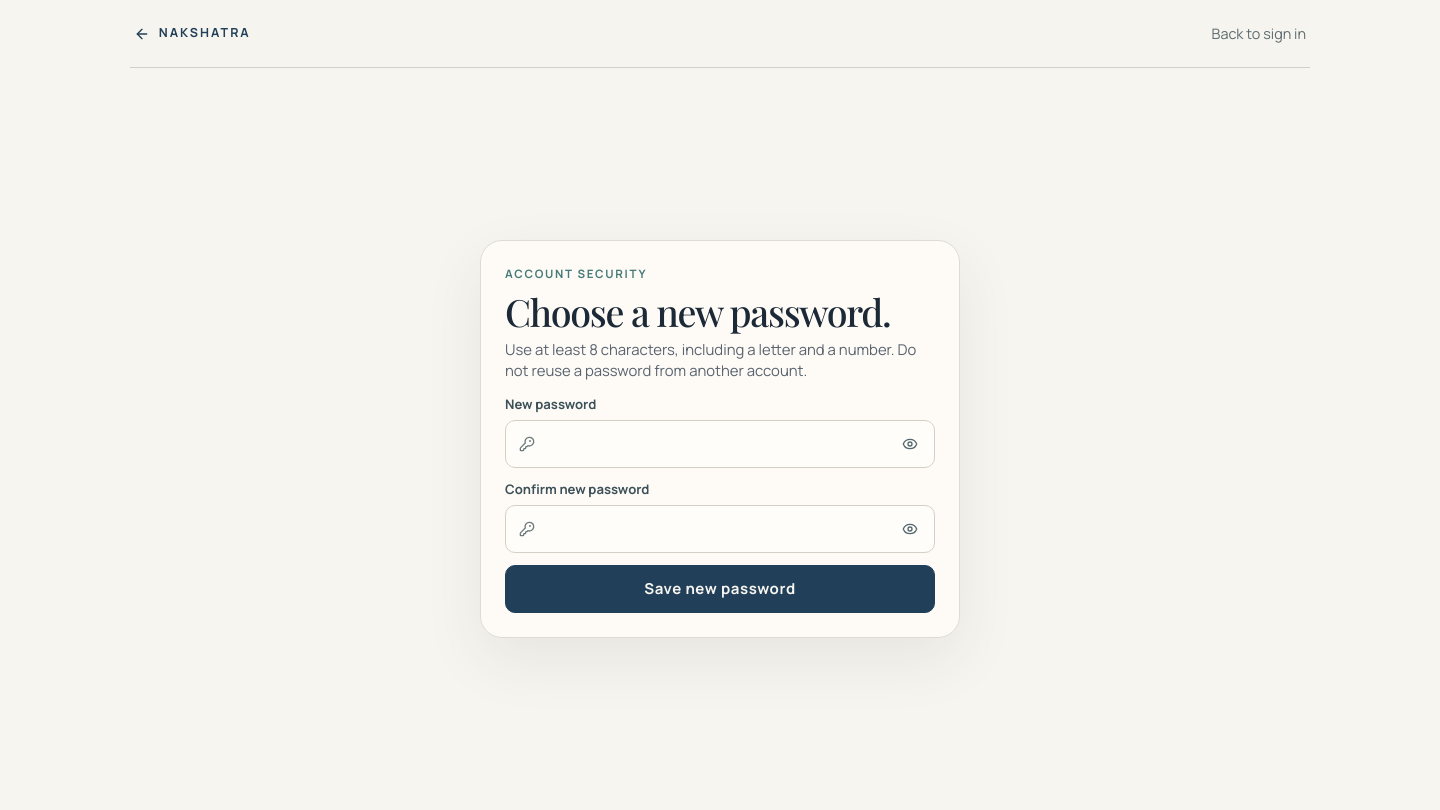
Scenario: password recovery form › shows a safe recovery error and supports password visibility
The width and height of the screenshot is (1440, 810).
Click the 1st button named "Show password" at (910, 444), box [889,423,931,465]
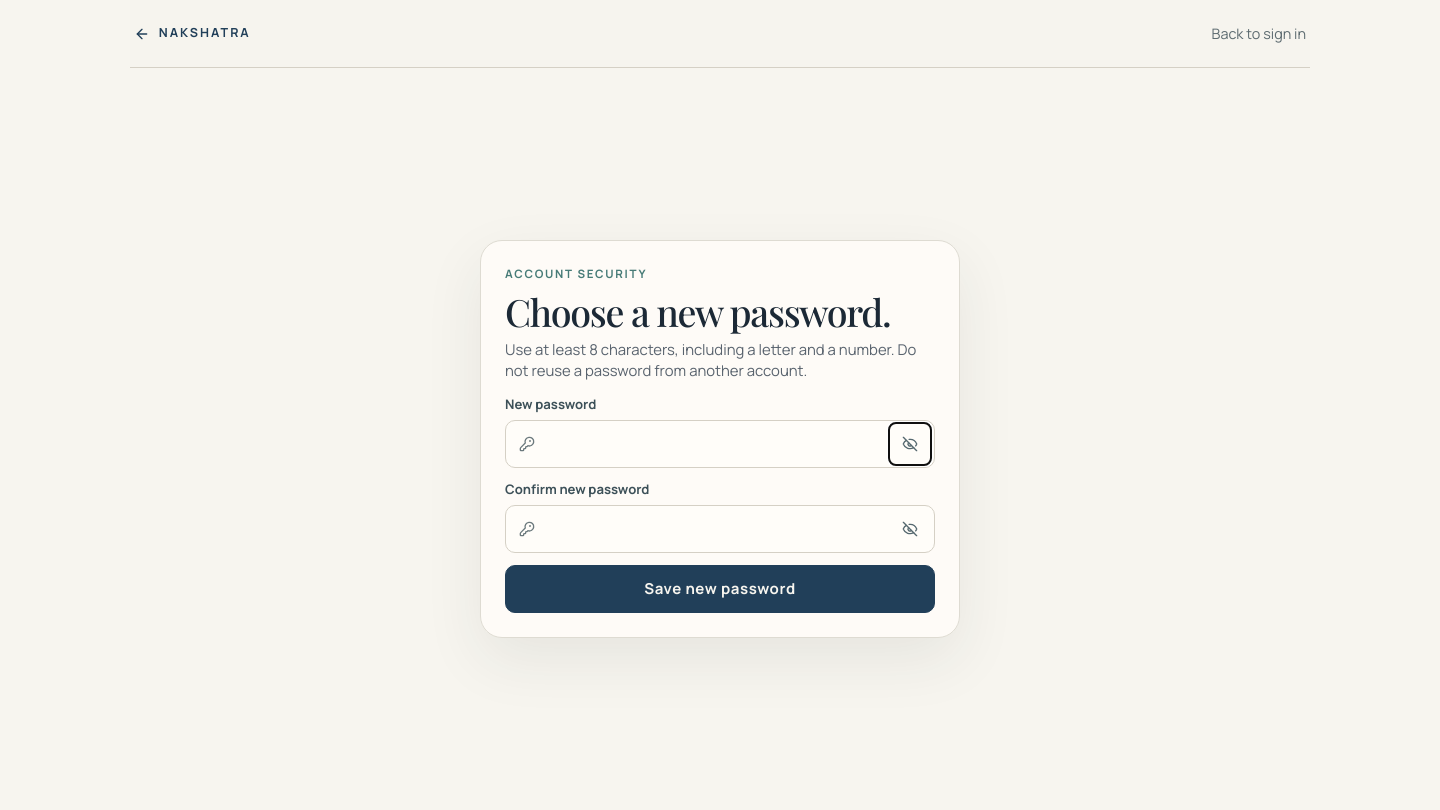
Type "NewPassword1" into the field labelled "New password" at (720, 444), box [505,420,935,468]
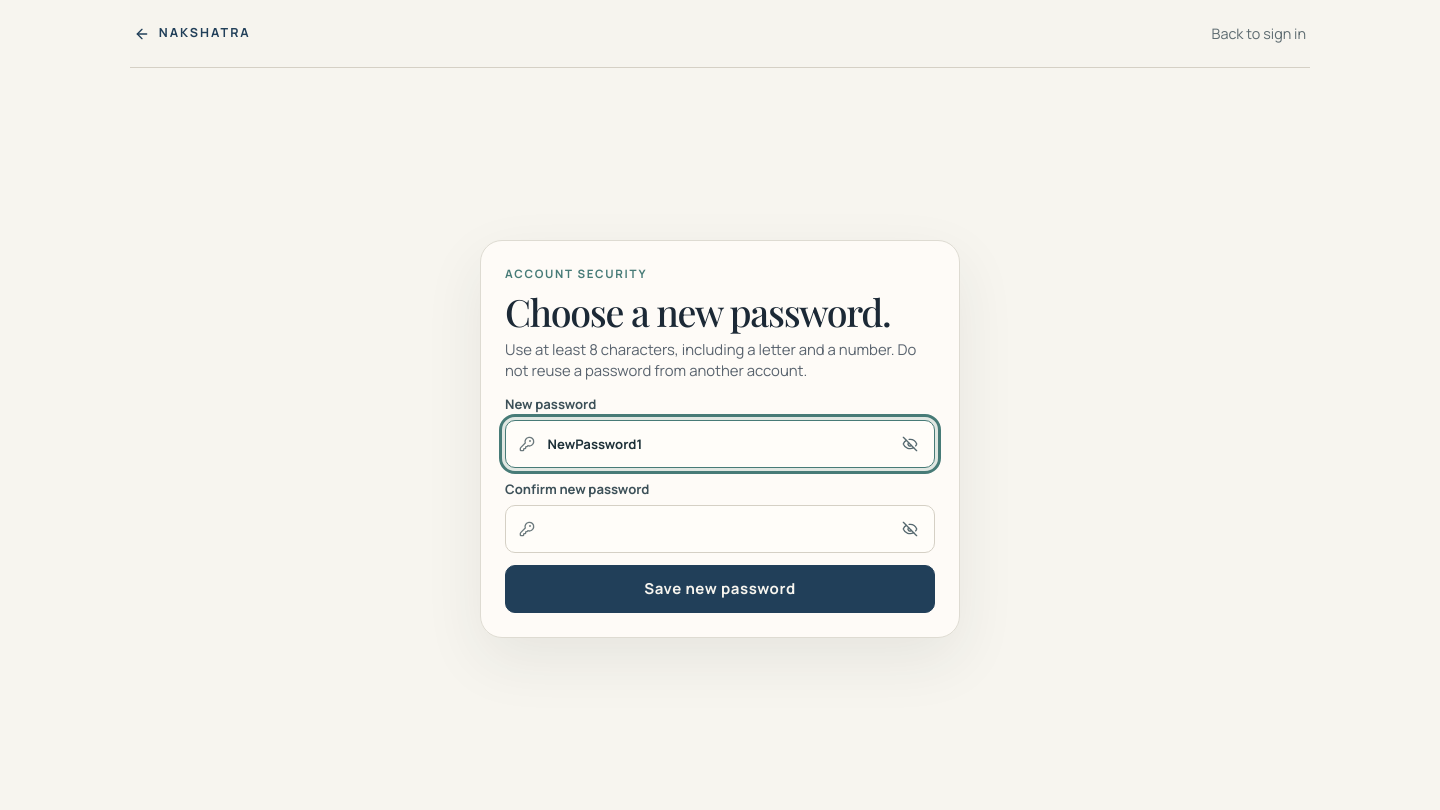
Type "NewPassword1" into the field labelled "Confirm new password" at (720, 529), box [505,505,935,553]
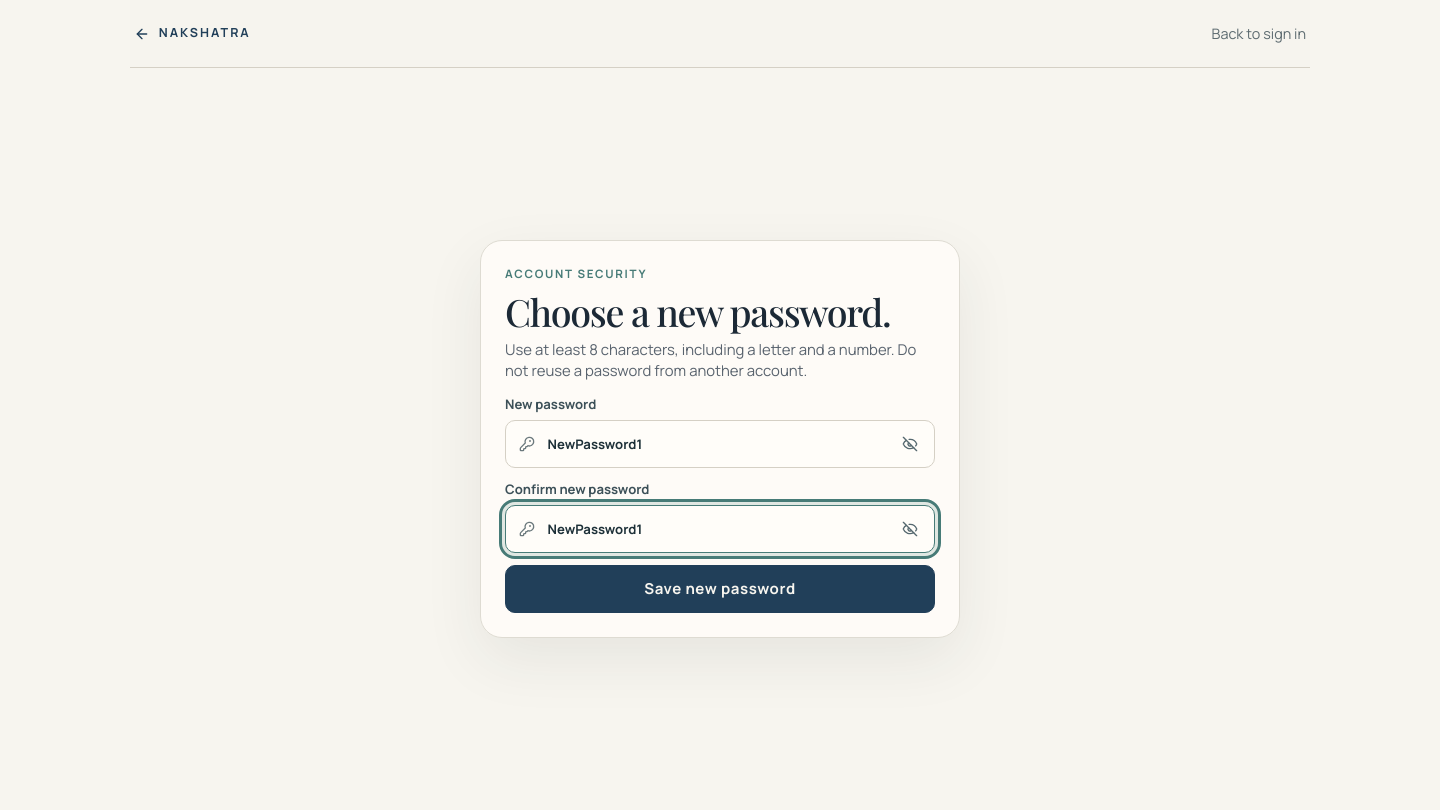
Click the button "Save new password" at (720, 589), box [505,565,935,613]
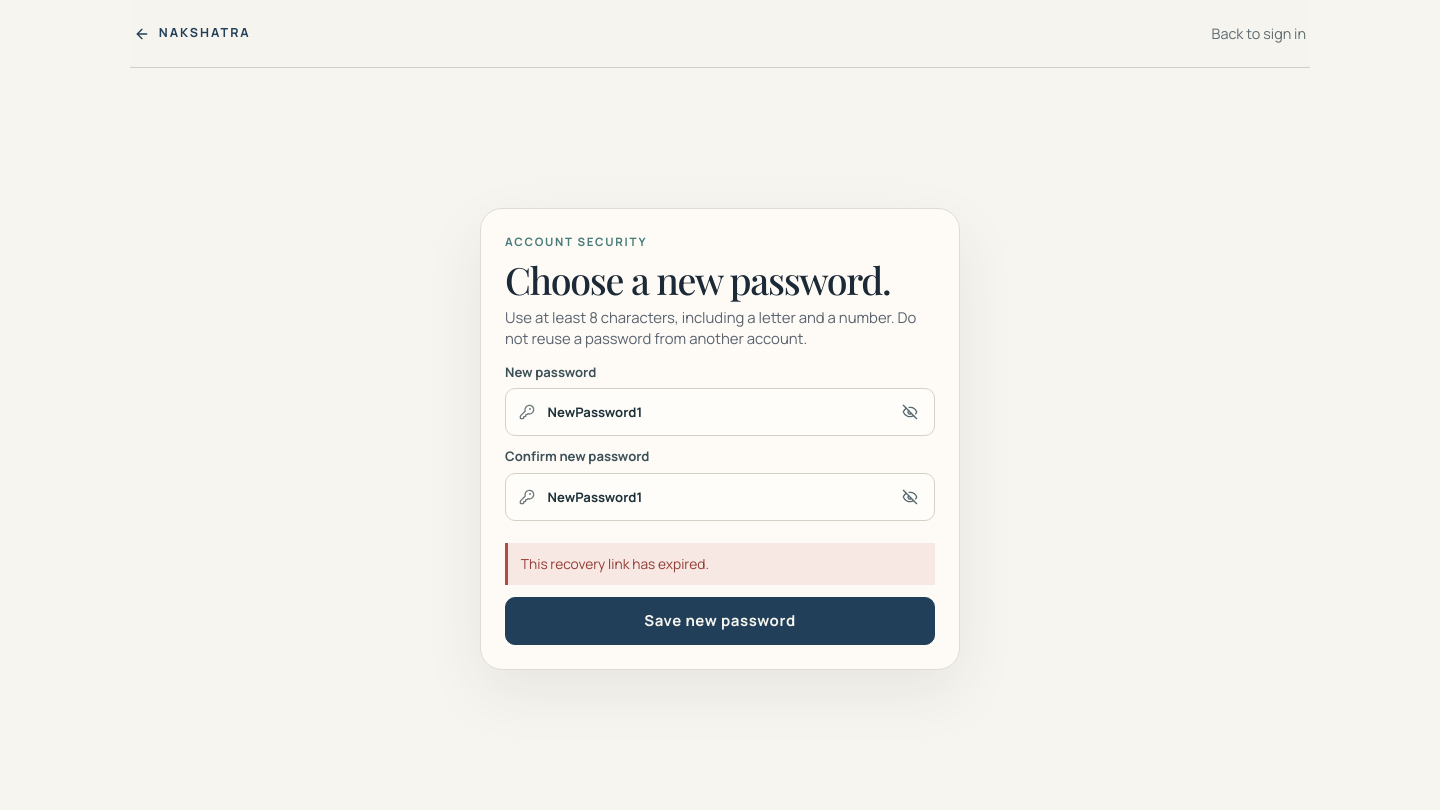
Expected: the message reads "This recovery link has expired.", [521,554,709,573]
